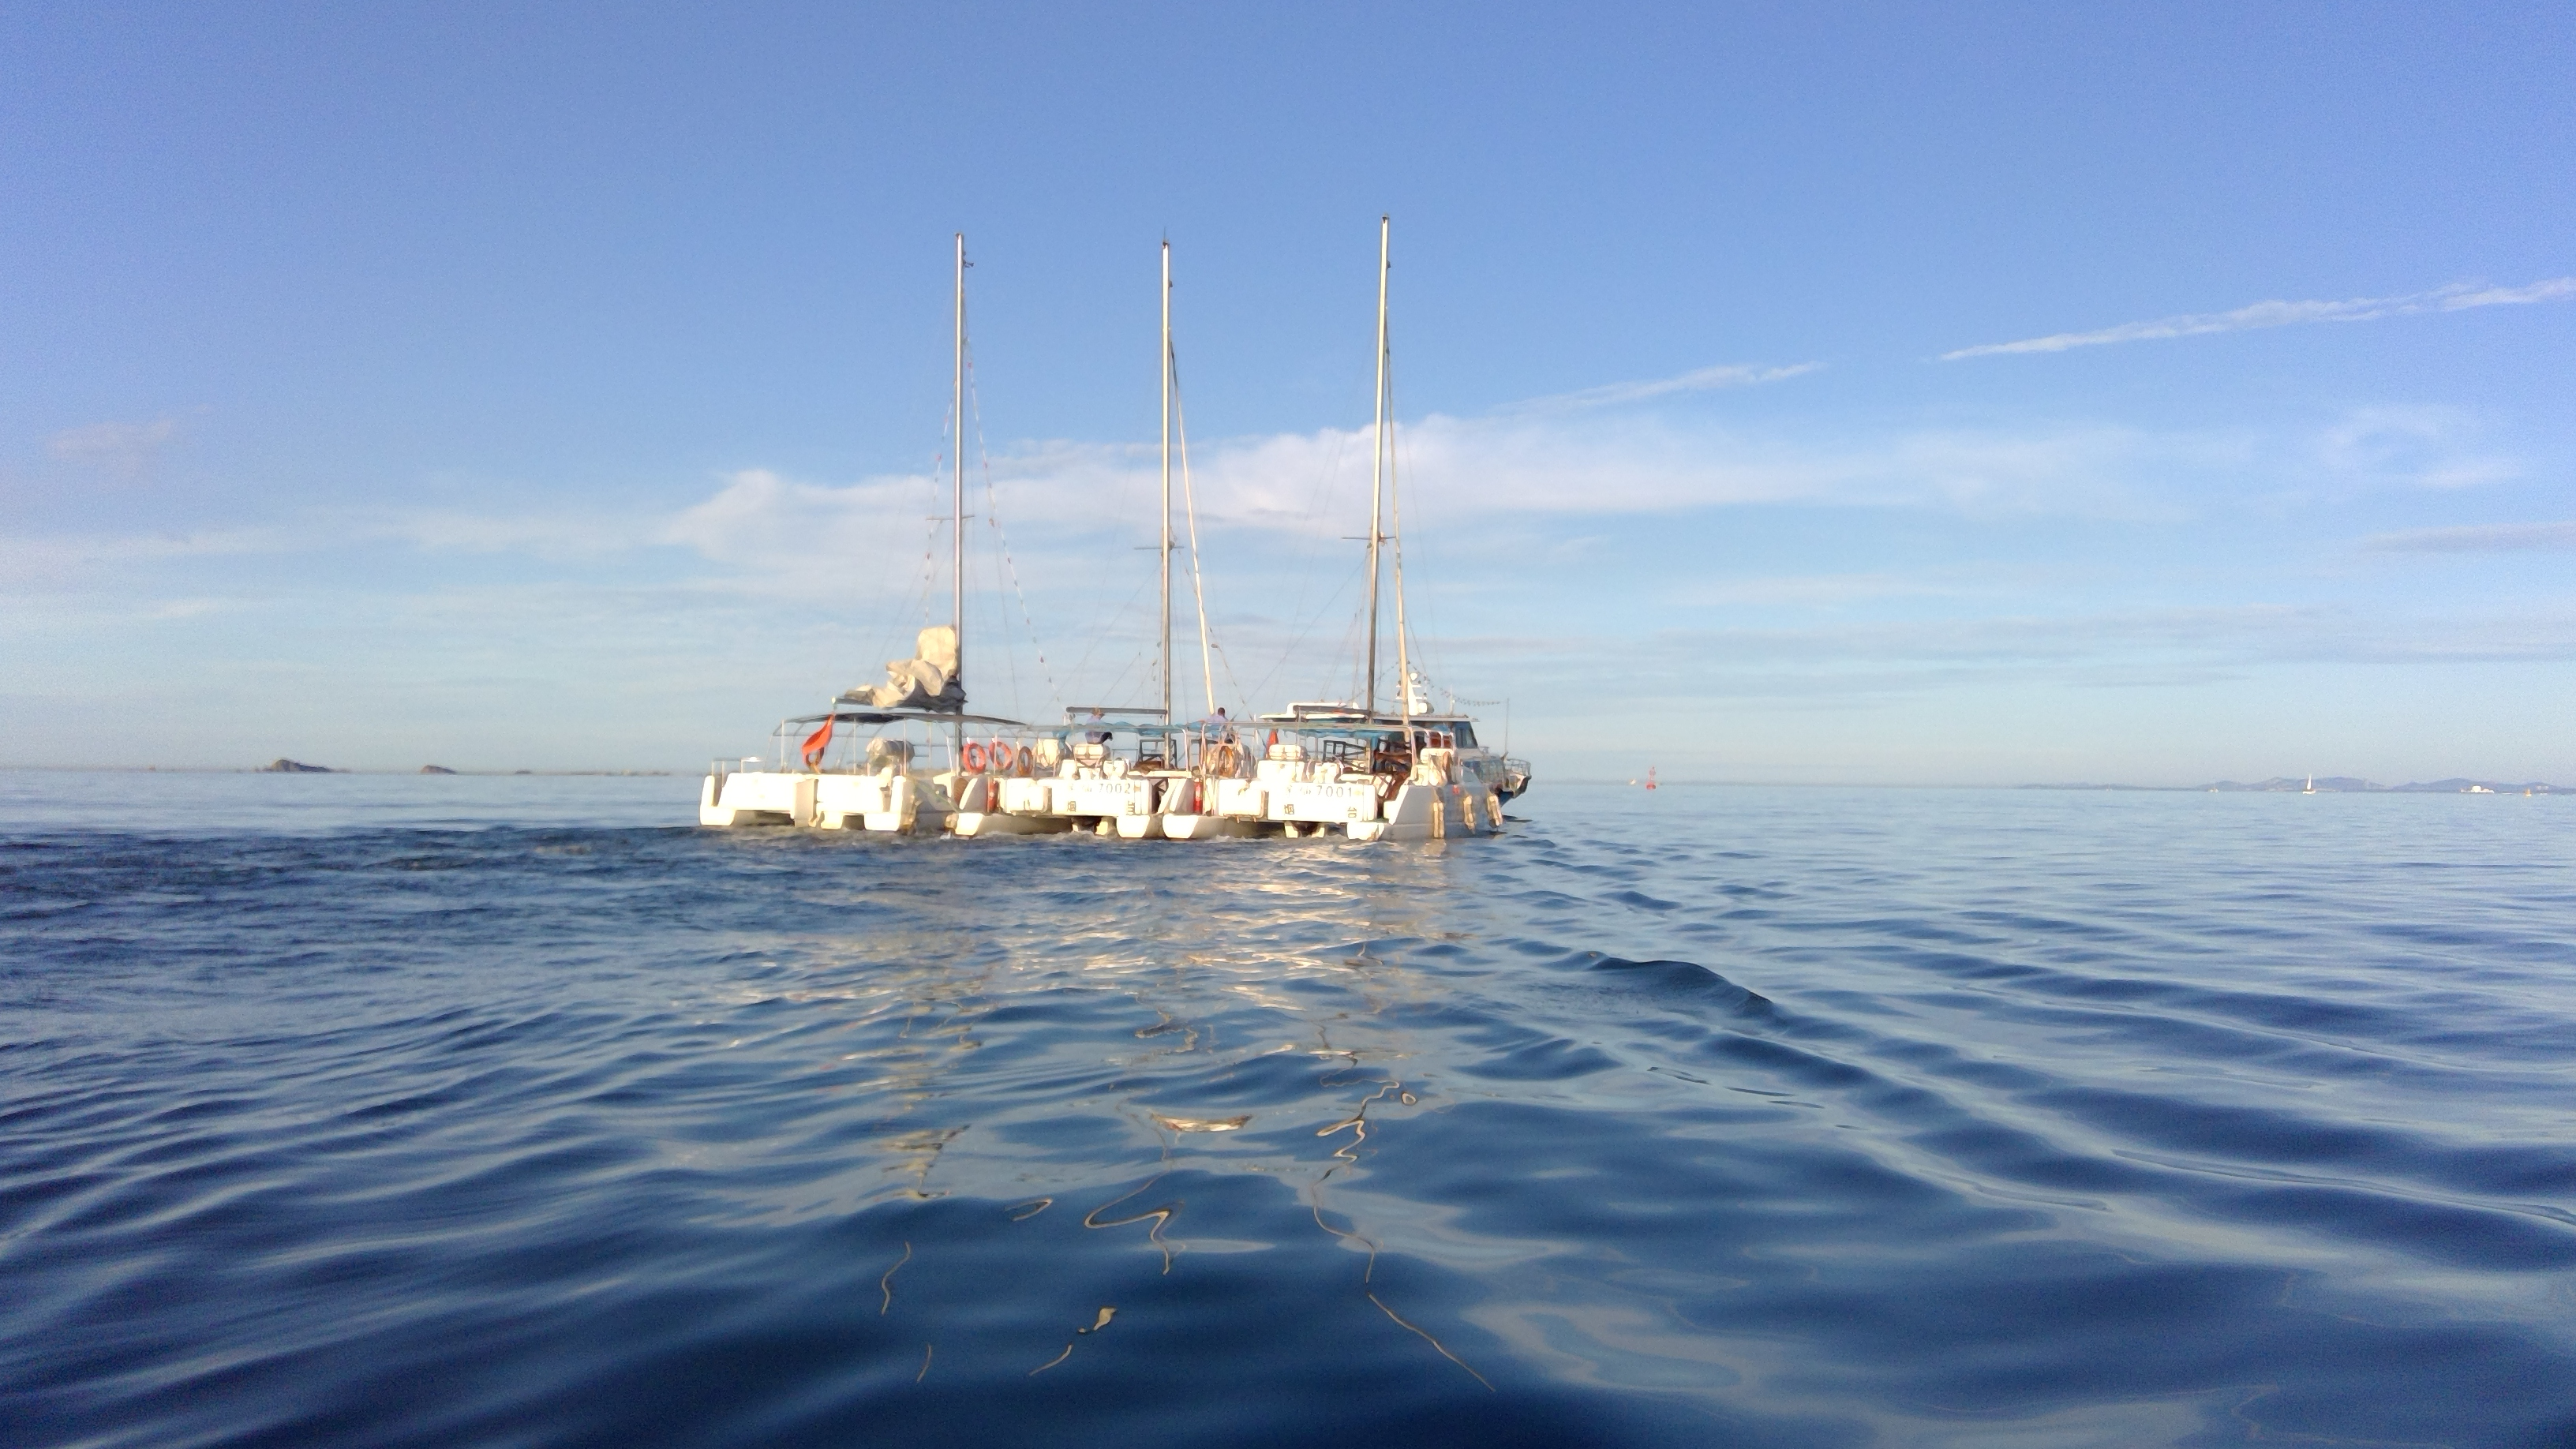boat: (727, 214, 1026, 867), (1261, 172, 1530, 870), (1053, 209, 1247, 879)
